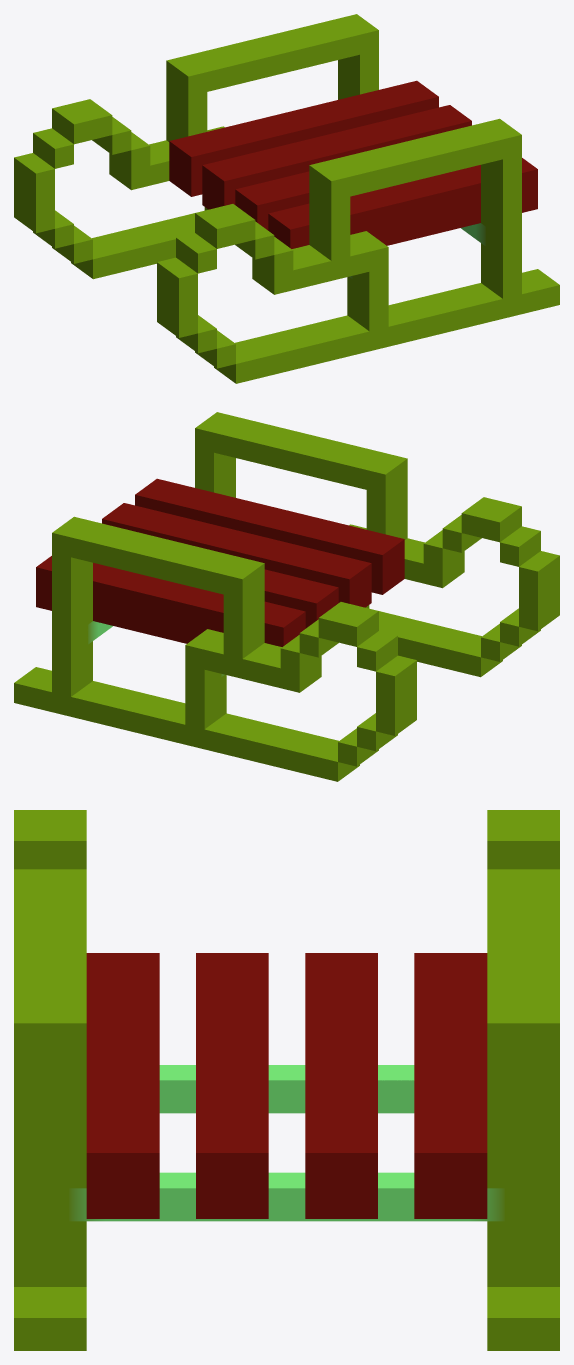
File: Vehicle_12.fbx
3 views of the same model, one above another, from view 1: azimuth 30°, elevation 25°; view 2: azimuth 150°, elevation 25°; view 3: azimuth 270°, elevation 25° (orthographic). The views are drawn at different scales.
Visible parts, largest first — view 1: Vehicle_12; view 2: Vehicle_12; view 3: Vehicle_12.
Part boxes in pixels (x1,y1,x2,y2): Vehicle_12: (14, 14, 559, 383); Vehicle_12: (14, 412, 559, 781); Vehicle_12: (14, 810, 559, 1350).
Bounding box in the file's own units: 20 × 9 × 15.
Materials: 1 (1 with a texture image).
